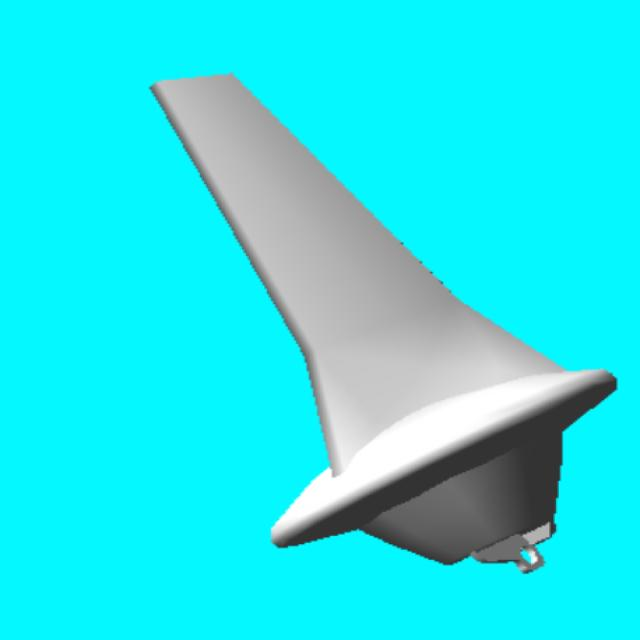WhiteBuoy: (150, 70, 618, 576)
